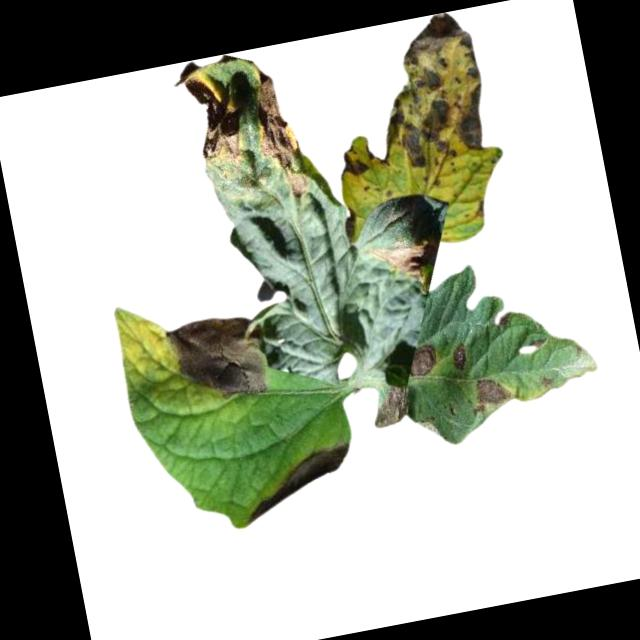Early_blight: (354, 8, 496, 179), (160, 310, 270, 409), (237, 444, 361, 523), (176, 55, 251, 180), (243, 67, 308, 205), (370, 239, 433, 290), (370, 383, 414, 434), (466, 373, 515, 418), (407, 344, 440, 379), (336, 146, 370, 179), (340, 205, 359, 240), (449, 342, 468, 371), (537, 375, 556, 392), (527, 338, 548, 353)
